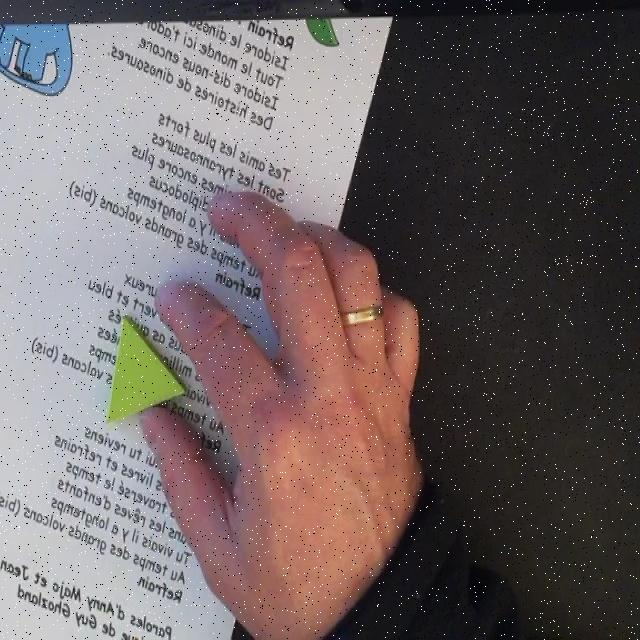triangle: (105, 314, 186, 429)
